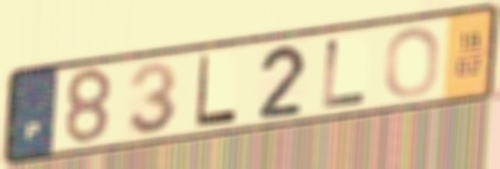2: (252, 39, 313, 125)
3: (125, 57, 182, 137)
8: (64, 65, 113, 148)
L: (319, 36, 372, 111), (192, 52, 240, 130)
O: (382, 24, 443, 101)
